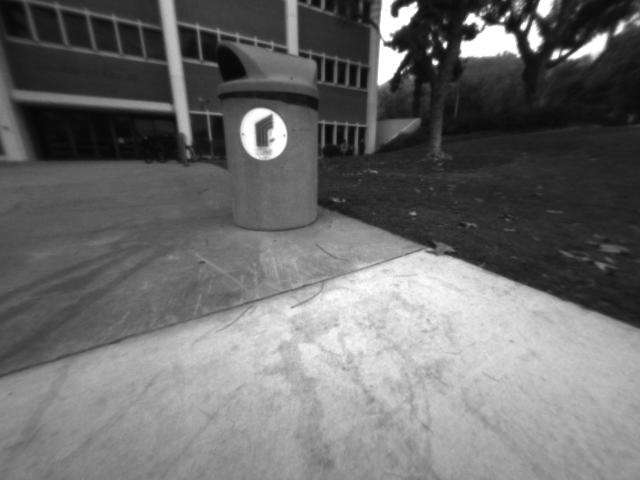trashcan: (213, 35, 332, 235)
